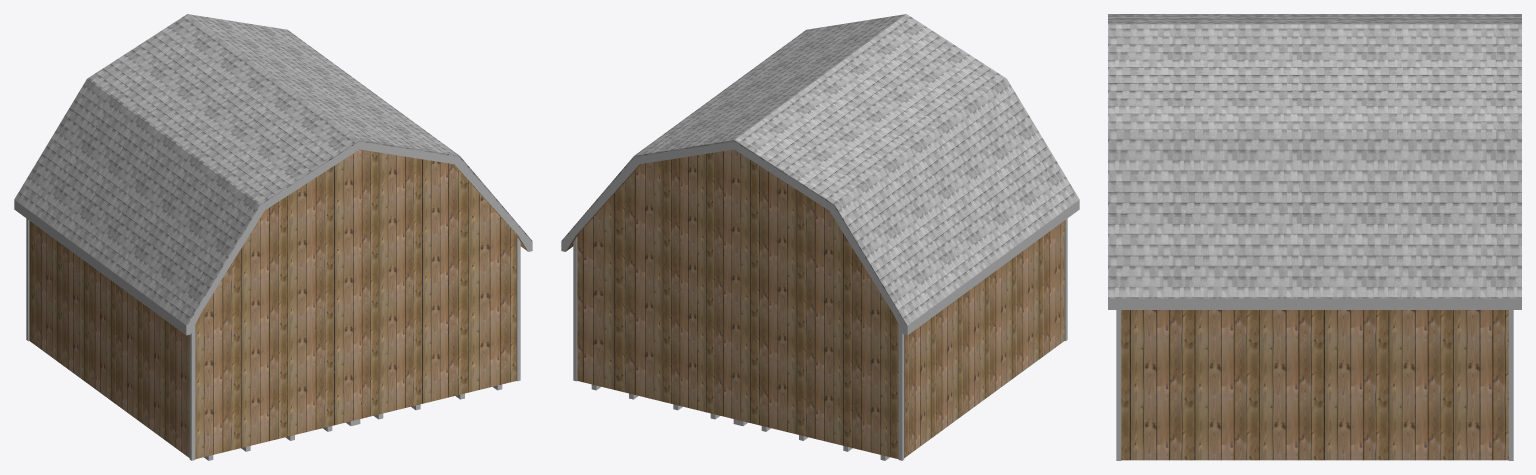
The model's file is Two Story Double Wide Garage_20x20.obj.
3 renders of one model, left to right at view 1: azimuth 30°, elevation 25°; view 2: azimuth 150°, elevation 25°; view 3: azimuth 270°, elevation 25°, orthographic. The views are drawn at different scales.
Parts seen in each view (by area): view 1: Shed, Roof, Sides, Trim; view 2: Shed, Roof, Sides, Trim; view 3: Roof, Shed, Sides, Trim.
Part boxes in pixels (x1,y1,x2,y2): Shed: (29,149,527,459); Roof: (14,14,532,325); Sides: (14,141,532,335); Trim: (26,218,520,460); Shed: (566,149,1064,459); Roof: (561,14,1079,325); Sides: (561,141,1079,335); Trim: (573,218,1067,460); Roof: (1108,14,1521,298); Shed: (1121,310,1508,460); Sides: (1108,298,1521,309); Trim: (1116,310,1513,460).
Size of the model in its own units: 7.43 by 5.91 by 6.4.
